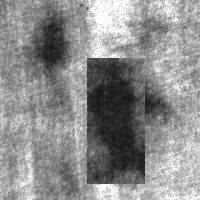patches: (87, 58, 145, 184), (99, 75, 160, 148), (35, 14, 72, 69)
